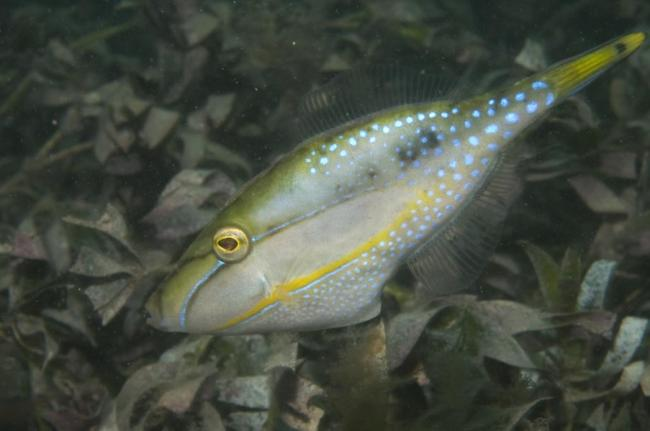fish: (140, 33, 647, 335)
